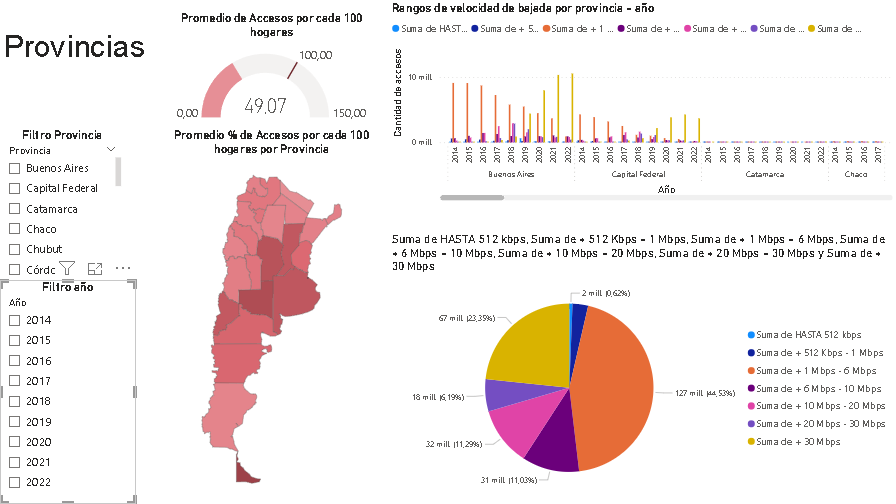

What the dashboard file says about the page in this screenshot:
{"tool":"powerbi","page":{"name":"Página 1","canvas":[1280,720],"ordinal":1},"visuals":[{"type":"clusteredColumnChart","title":"Rangos de velocidad de bajada por provincia - año","fields":{"Category":["Acceso Internet Provincias.Provincia","Acceso Internet Provincias.Año"],"Y":["Sum(Acceso Internet Provincias.HASTA 512 kbps)","Sum(Acceso Internet Provincias.+ 512 Kbps - 1 Mbps)","Sum(Acceso Internet Provincias.+ 1 Mbps - 6 Mbps)","Sum(Acceso Internet Provincias.+ 6 Mbps - 10 Mbps)","Sum(Acceso Internet Provincias.+ 10 Mbps - 20 Mbps)","Sum(Acceso Internet Provincias.+ 20 Mbps - 30 Mbps)","Sum(Acceso Internet Provincias.+ 30 Mbps)"]},"box":[554.7,1.4,725.7,290.3],"z":0},{"type":"slicer","title":"Filtro Provincia","fields":{"Values":["Acceso Internet Provincias.Provincia"]},"box":[0,182.5,178.2,217],"z":1000},{"type":"slicer","title":"Filtro año","fields":{"Values":["Acceso Internet Provincias.Año"]},"box":[0,399.5,194,320.5],"z":2000},{"type":"gauge","fields":{"Y":["Avg(Acceso Internet Provincias.Accesos por cada 100 hogares)"]},"box":[221.3,15.8,333.4,162.4],"z":3000},{"type":"shapeMap","title":"Promedio % de Accesos por cada 100 hogares por Provincia","fields":{"Category":["Acceso Internet Provincias.Provincia"],"Value":["Avg(Acceso Internet Provincias.Accesos por cada 100 hogares)"]},"box":[238.6,182.5,298.9,537.5],"z":4000},{"type":"textbox","box":[0,37.4,221.3,60.4],"z":5000},{"type":"pieChart","fields":{"Y":["Sum(Acceso Internet Provincias.HASTA 512 kbps)","Sum(Acceso Internet Provincias.+ 512 Kbps - 1 Mbps)","Sum(Acceso Internet Provincias.+ 1 Mbps - 6 Mbps)","Sum(Acceso Internet Provincias.+ 6 Mbps - 10 Mbps)","Sum(Acceso Internet Provincias.+ 10 Mbps - 20 Mbps)","Sum(Acceso Internet Provincias.+ 20 Mbps - 30 Mbps)","Sum(Acceso Internet Provincias.+ 30 Mbps)"]},"box":[554.7,332,725.7,388],"z":6000}]}

Visuals, with their boxes in screenshot pixels (x1, y1, x2, y2), scaled from the page's 1280x720 canvas onto the 896x504 screenshot:
"Rangos de velocidad de bajada por provincia - año" clusteredColumnChart: (x1=388, y1=1, x2=895, y2=204)
"Filtro Provincia" slicer: (x1=0, y1=128, x2=125, y2=280)
"Filtro año" slicer: (x1=0, y1=280, x2=136, y2=503)
gauge - Avg(Acceso Internet Provincias.Accesos por cada 100 hogares): (x1=155, y1=11, x2=388, y2=125)
"Promedio % de Accesos por cada 100 hogares por Provincia" shapeMap: (x1=167, y1=128, x2=376, y2=503)
textbox: (x1=0, y1=26, x2=155, y2=68)
pieChart - Sum(Acceso Internet Provincias.HASTA 512 kbps) x Sum(Acceso Internet Provincias.+ 512 Kbps - 1 Mbps): (x1=388, y1=232, x2=895, y2=503)
